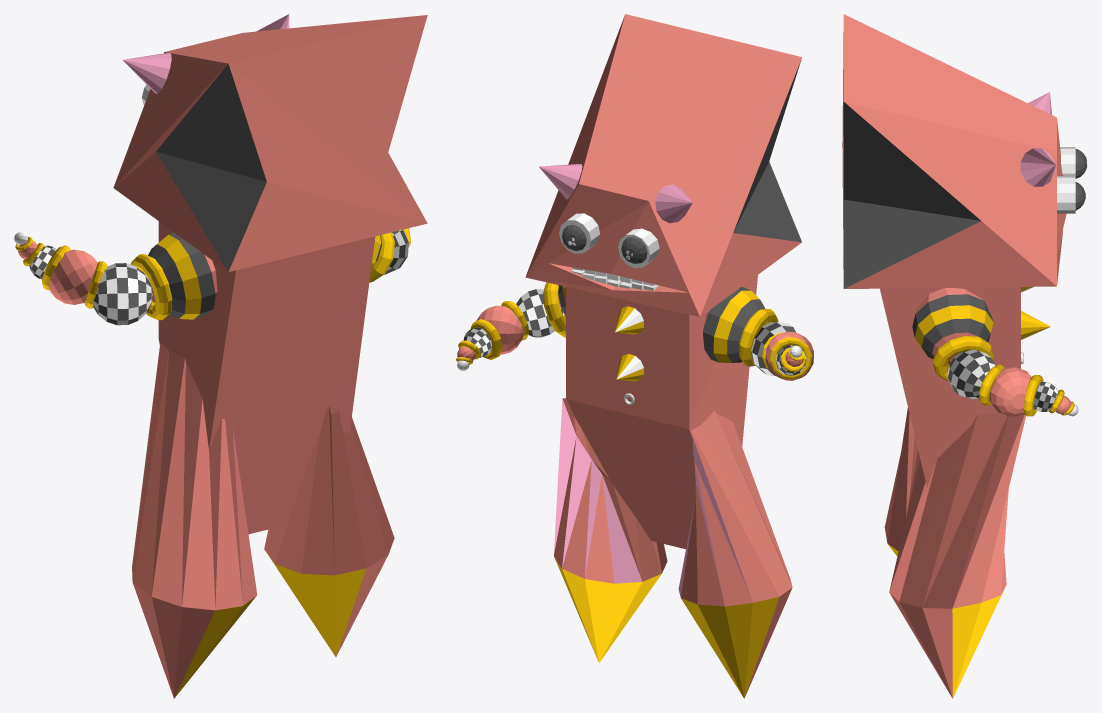
The picture shows the model from 3 angles, left to right: view 1: azimuth 30°, elevation 25°; view 2: azimuth 150°, elevation 25°; view 3: azimuth 270°, elevation 25°; orthographic projection. The views are drawn at different scales.
Visible parts, largest first — view 1: entity_2; view 2: entity_2; view 3: entity_2.
Boxes of the visible parts, <box> form: entity_2: <box>14,14,427,698</box>; entity_2: <box>456,14,813,698</box>; entity_2: <box>842,14,1087,698</box>.
Size of the model in its own units: 0.6259 by 1.08 by 0.3906.
